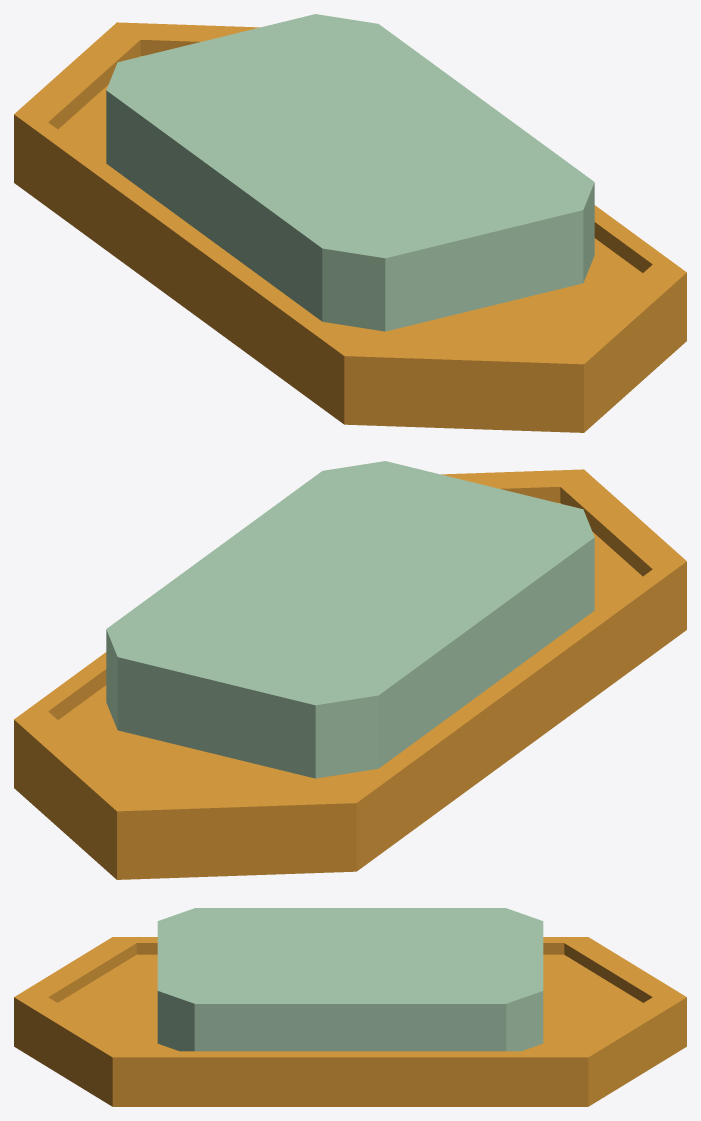
The model's file is Soap.fbx.
3 renders of one model, top to bottom at view 1: azimuth 30°, elevation 25°; view 2: azimuth 150°, elevation 25°; view 3: azimuth 270°, elevation 25°, orthographic. The views are drawn at different scales.
Parts seen in each view (by area): view 1: Soap; view 2: Soap; view 3: Soap.
Part boxes in pixels (bbox=[...]): Soap: bbox=[14, 14, 686, 432]; Soap: bbox=[14, 461, 686, 879]; Soap: bbox=[14, 908, 686, 1106].
Size of the model in its own units: 2.32 by 0.8134 by 5.47.
